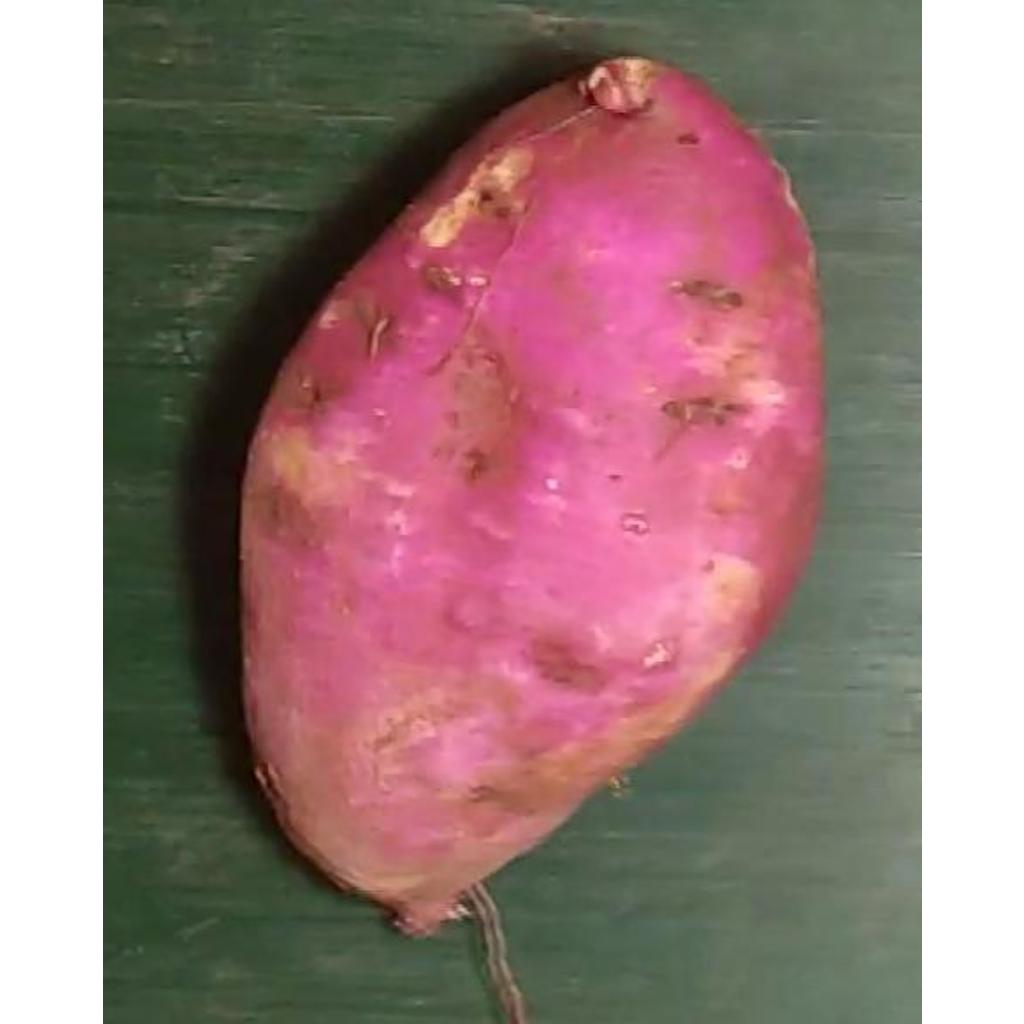Sweet Potato: (239, 58, 825, 962)
